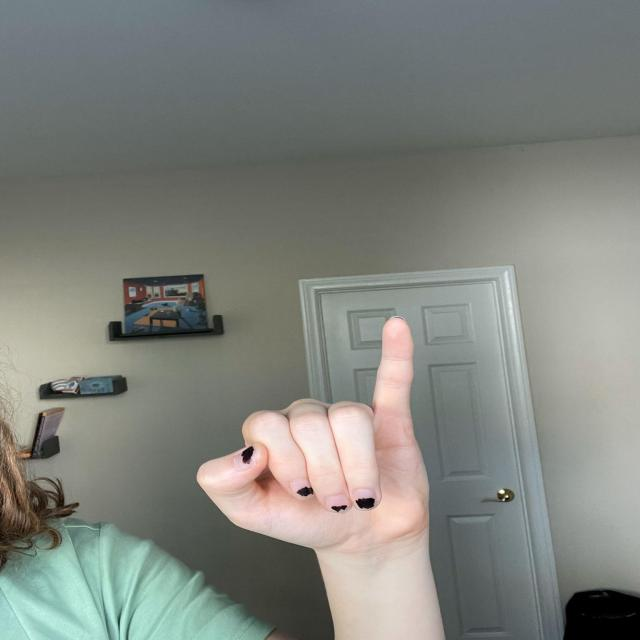I: (193, 314, 440, 552)
